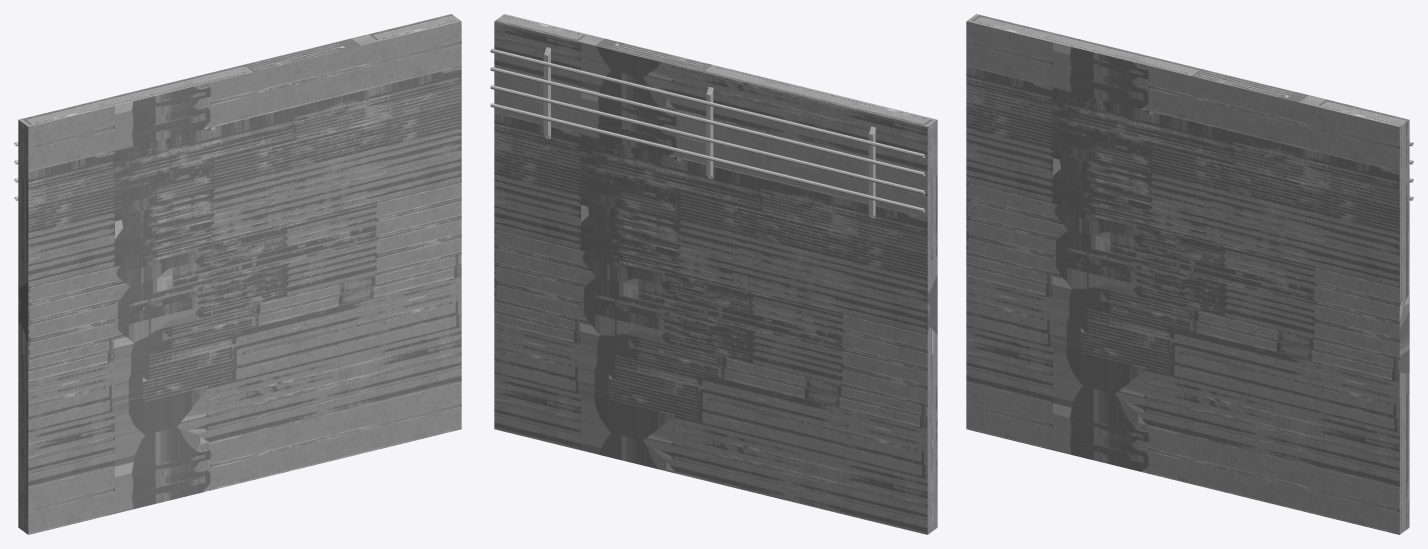
The model's file is SM_Building03_GroundWallR.fbx.
3 views of the same model, side by side, from view 1: azimuth 30°, elevation 25°; view 2: azimuth 150°, elevation 25°; view 3: azimuth 330°, elevation 25° (orthographic).
Visible parts, largest first — view 1: SM_Building03_GroundWallR_LOD0; view 2: SM_Building03_GroundWallR_LOD0; view 3: SM_Building03_GroundWallR_LOD0.
Part boxes in pixels (x1,y1,x2,y2): SM_Building03_GroundWallR_LOD0: [14, 14, 461, 534]; SM_Building03_GroundWallR_LOD0: [490, 14, 937, 534]; SM_Building03_GroundWallR_LOD0: [966, 14, 1413, 534].
Size of the model in its own units: 500 by 27.98 by 450.
